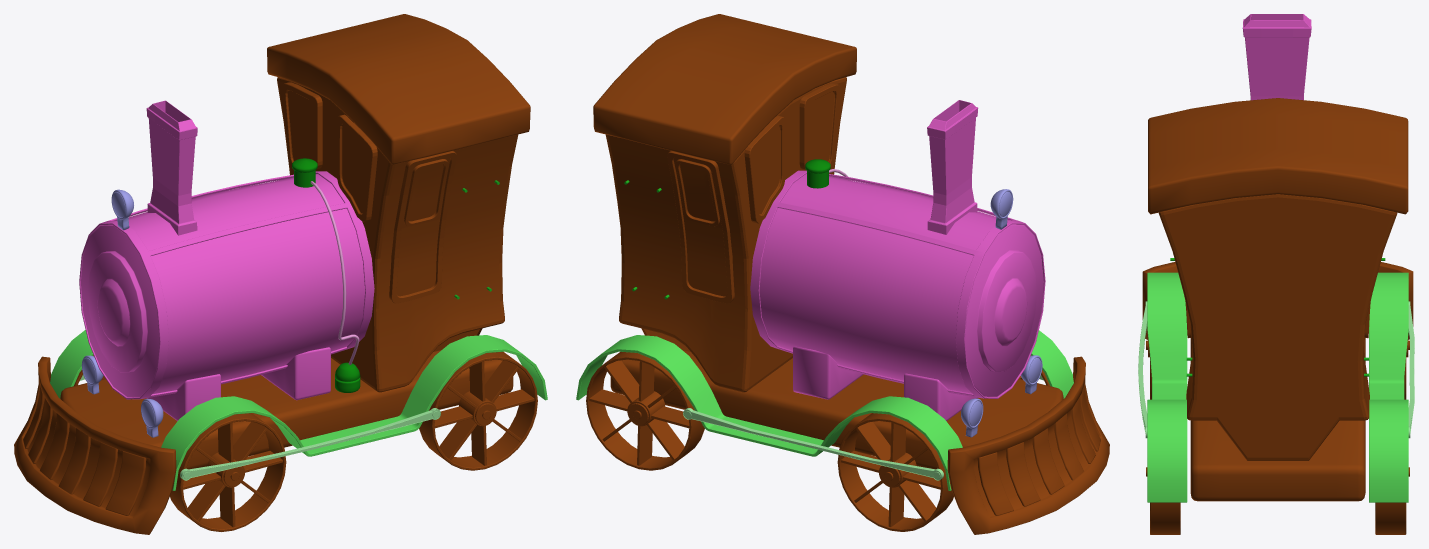
The model's file is Locomotive.obj.
The picture shows the model from 3 angles, left to right: view 1: azimuth 30°, elevation 25°; view 2: azimuth 150°, elevation 25°; view 3: azimuth 270°, elevation 25°; orthographic projection. The views are drawn at different scales.
Visible parts, largest first — view 1: Mid_cylinder, van_up, Loco_van, Locomotive_under, Vehicle_up, Front, Doors, Object007, Front_windows, Front_m, Object014, Mid_cylinder_under (+10 smaller); view 2: Mid_cylinder, van_up, Loco_van, Locomotive_under, Vehicle_up, Front, Doors, Object007, Front_windows, Front_m, Object014, Mid_cylinder_under (+8 smaller); view 3: Loco_van, van_up, Vehicle_up, Locomotive_under, Object014, Vehicle4, Front, Circle005, Circle006, Circle010.
Part boxes in pixels (x1=…): Mid_cylinder: x1=81, y1=174, x2=365, y2=397; van_up: x1=267, y1=14, x2=530, y2=164; Loco_van: x1=277, y1=77, x2=518, y2=392; Locomotive_under: x1=60, y1=350, x2=513, y2=469; Vehicle_up: x1=50, y1=330, x2=547, y2=490; Front: x1=14, y1=356, x2=176, y2=534; Doors: x1=389, y1=151, x2=456, y2=303; Object007: x1=79, y1=171, x2=374, y2=399; Front_windows: x1=282, y1=82, x2=377, y2=221; Front_m: x1=23, y1=384, x2=146, y2=515; Object014: x1=146, y1=100, x2=197, y2=235; Mid_cylinder_under: x1=146, y1=347, x2=330, y2=420; Mid_cylinder: x1=759, y1=173, x2=1043, y2=396; van_up: x1=593, y1=14, x2=856, y2=164; Loco_van: x1=605, y1=77, x2=846, y2=392; Locomotive_under: x1=610, y1=350, x2=1063, y2=469; Vehicle_up: x1=576, y1=330, x2=1073, y2=490; Front: x1=947, y1=356, x2=1109, y2=534; Doors: x1=667, y1=151, x2=734, y2=303; Object007: x1=750, y1=170, x2=1045, y2=398; Front_windows: x1=744, y1=83, x2=839, y2=223; Front_m: x1=977, y1=384, x2=1100, y2=515; Object014: x1=927, y1=100, x2=978, y2=234; Mid_cylinder_under: x1=793, y1=346, x2=977, y2=420; Loco_van: x1=1158, y1=194, x2=1397, y2=460; van_up: x1=1148, y1=98, x2=1408, y2=214; Vehicle_up: x1=1147, y1=272, x2=1408, y2=502; Locomotive_under: x1=1190, y1=337, x2=1365, y2=501; Object014: x1=1242, y1=14, x2=1311, y2=100; Vehicle4: x1=1375, y1=502, x2=1406, y2=534; Front: x1=1142, y1=262, x2=1413, y2=339; Circle005: x1=1150, y1=502, x2=1180, y2=534; Circle006: x1=1138, y1=301, x2=1147, y2=438; Circle010: x1=1408, y1=301, x2=1414, y2=438.
Size of what is drawn, in the model's own units: 66.93 by 54.43 by 35.37.
